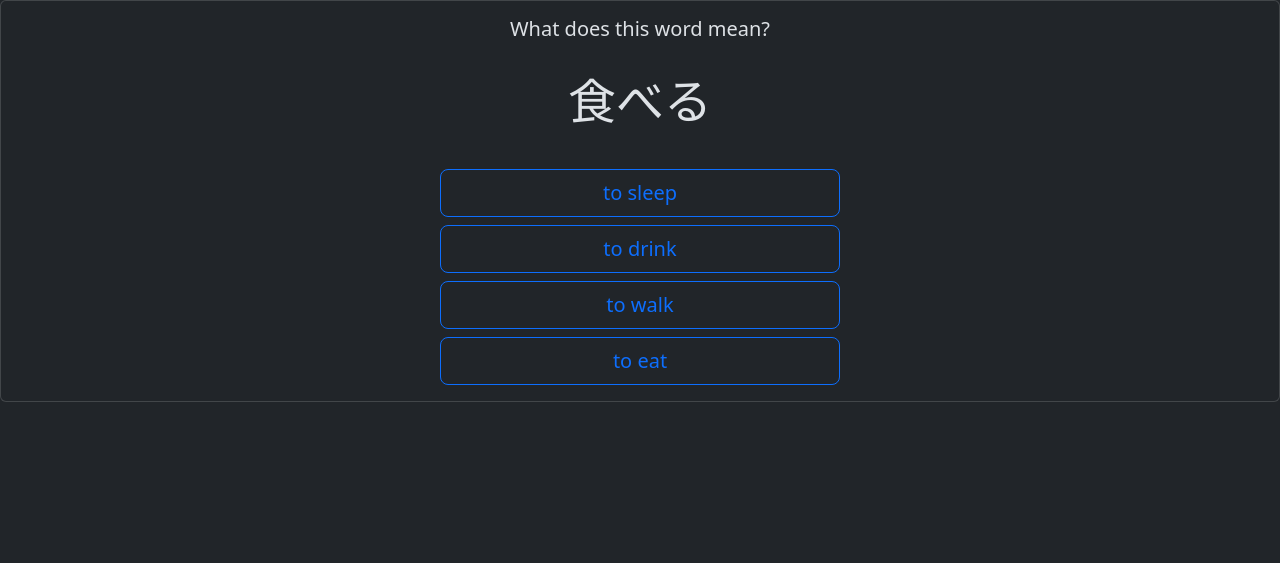
Test: KanjiQuiz › resets state when retry is clicked
// Click incorrect answer
Click the button "to drink": (640, 249) [440,225,840,273]
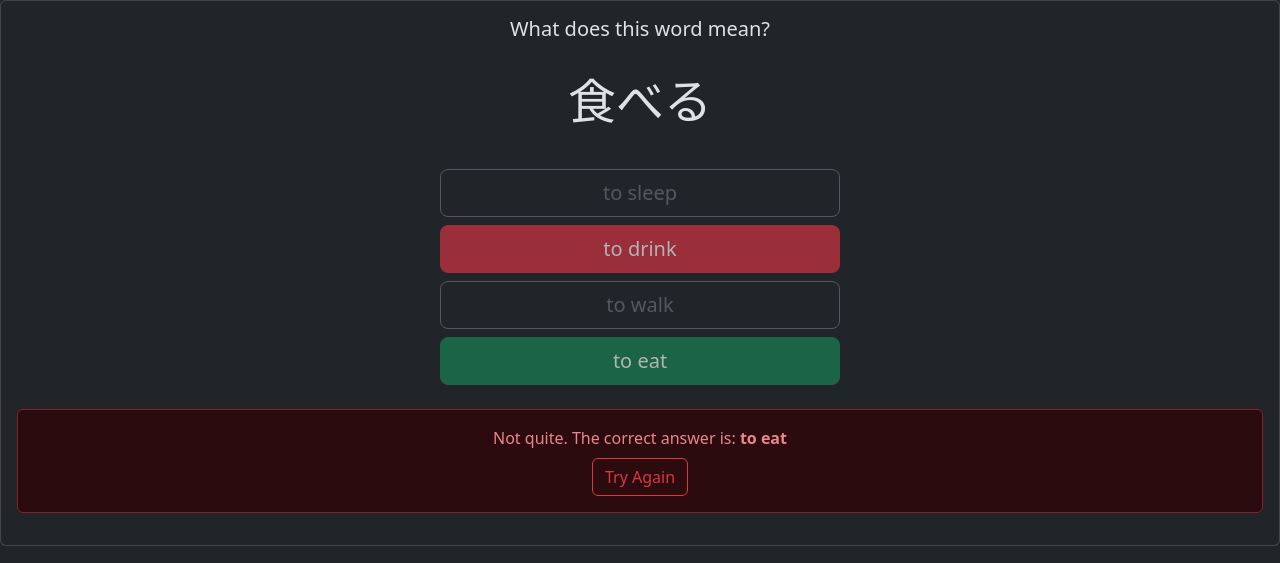
// Click retry
Click the button with test id "retry-button": (640, 477) [592,458,688,496]
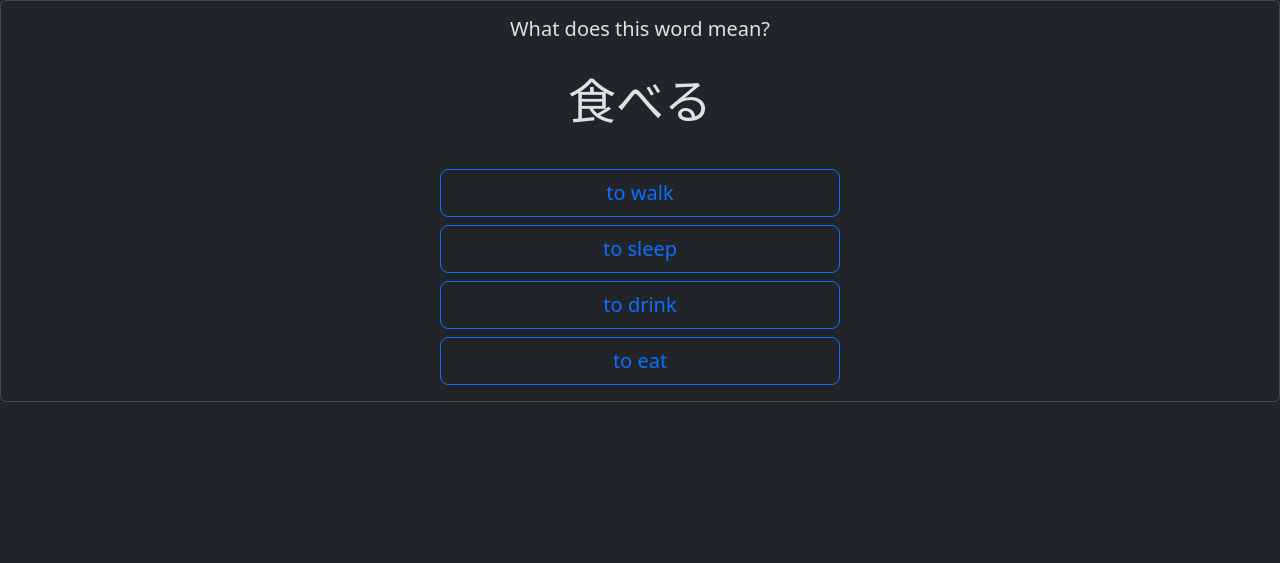
Expected: the message with test id "quiz-feedback" is gone
Expected: the button "to walk" is enabled, [440,169,840,217]
Expected: the button "to sleep" is enabled, [440,225,840,273]
